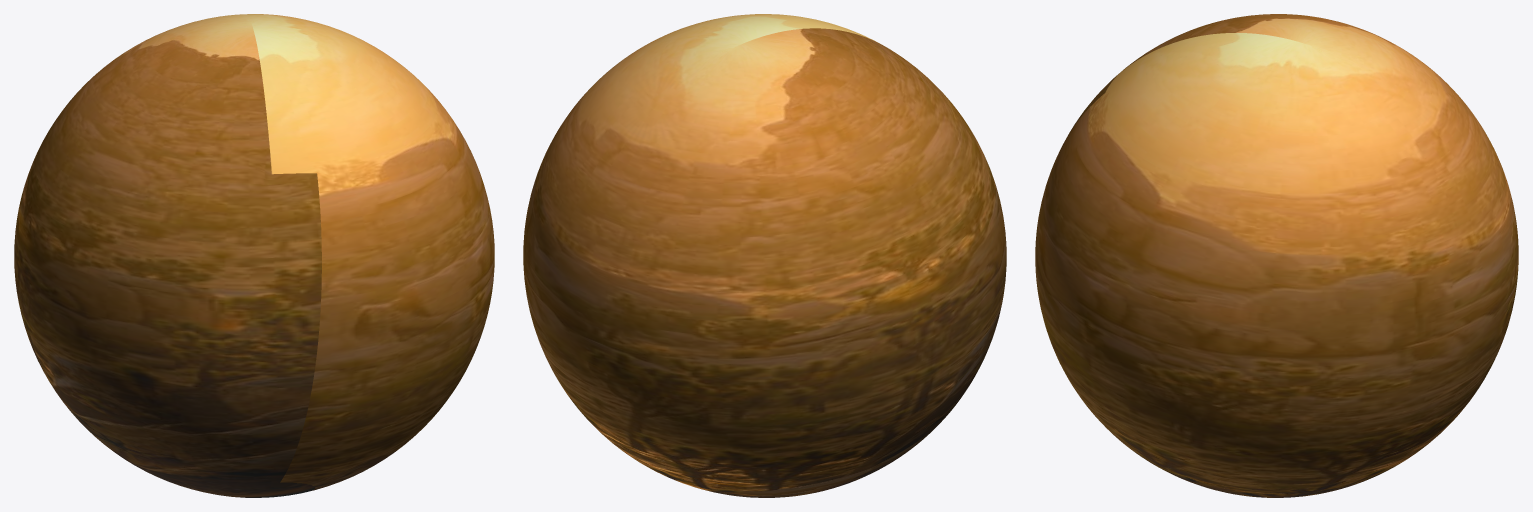
File: planet2.obj
3 views of the same model, side by side, from view 1: azimuth 30°, elevation 25°; view 2: azimuth 150°, elevation 25°; view 3: azimuth 270°, elevation 25° (orthographic).
Parts seen in each view (by area): view 1: Earth_Sphere; view 2: Earth_Sphere; view 3: Earth_Sphere.
Boxes of the visible parts, <box> form: Earth_Sphere: <box>14,14,494,497</box>; Earth_Sphere: <box>523,14,1006,497</box>; Earth_Sphere: <box>1035,14,1518,497</box>.
Size of the model in its own units: 3.88 by 3.9 by 3.89.
